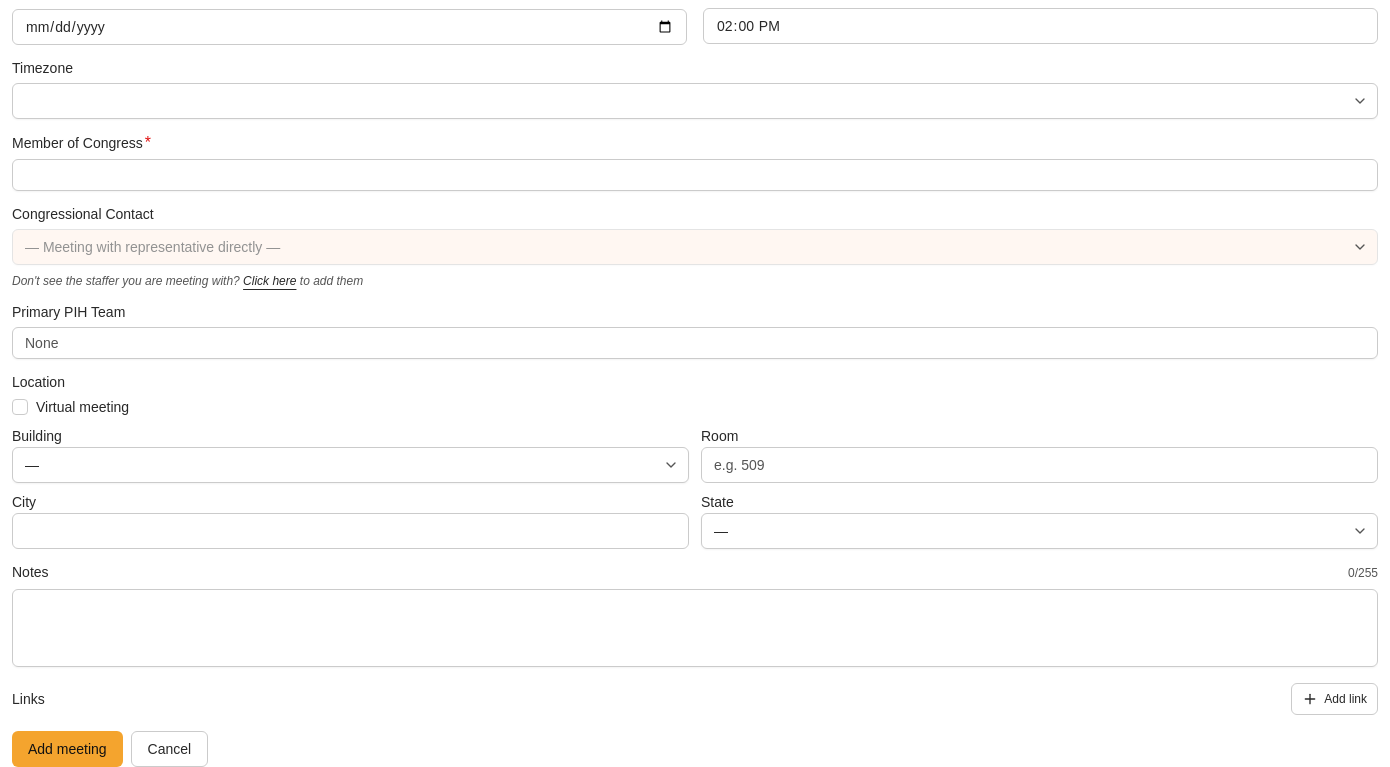
it: CreateMeetingForm — validation › shows error when date is missing
(page scrolled)
Click the button "Add meeting": (67, 749) [12,731,123,766]
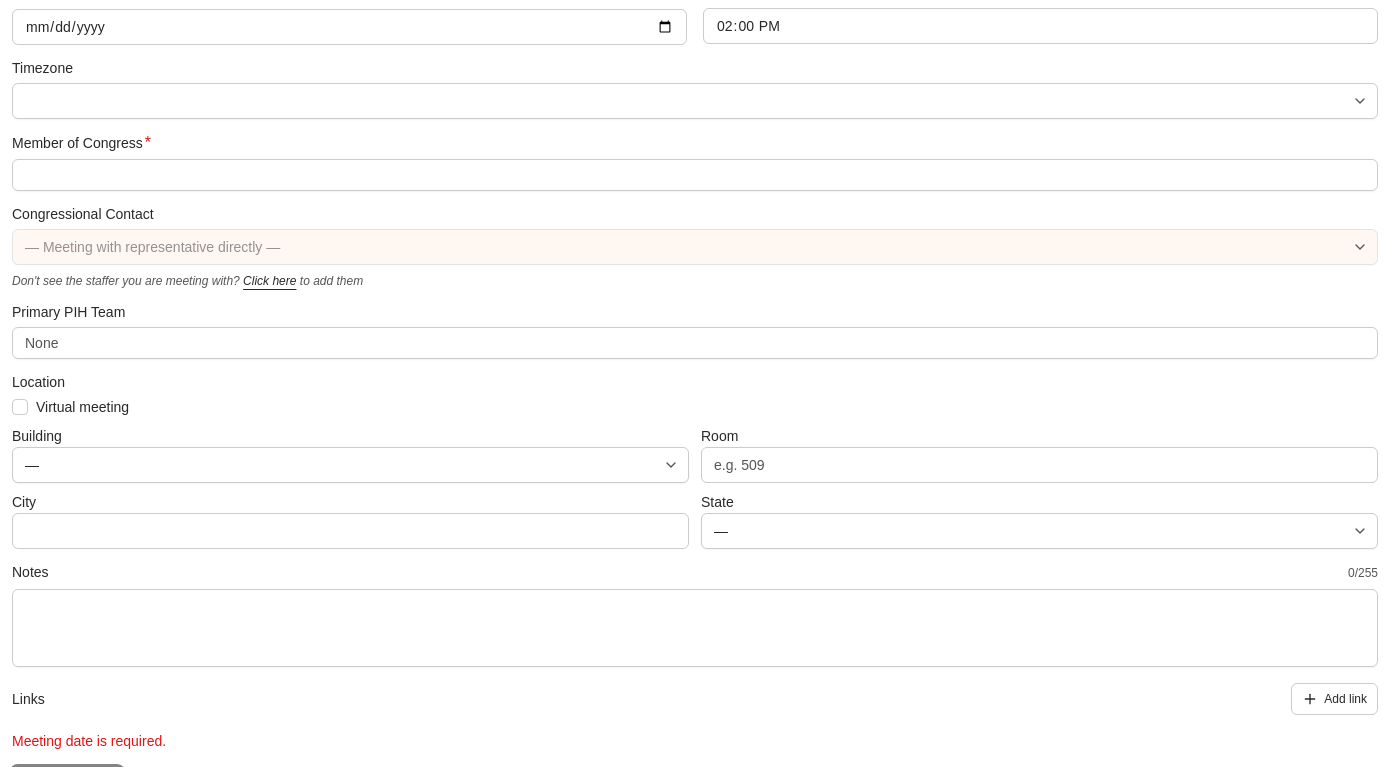
Check: the message shows "Meeting date is required", box [12,733,166,749]
